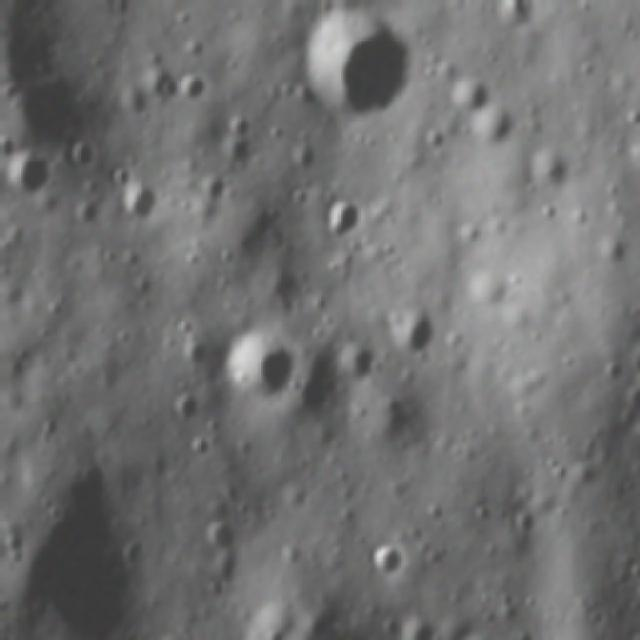crater: (289, 12, 420, 126), (12, 53, 117, 155), (223, 328, 303, 414), (384, 300, 441, 365), (251, 262, 306, 318), (316, 192, 370, 246), (333, 340, 385, 392), (8, 148, 58, 202), (117, 181, 168, 230), (527, 147, 575, 196), (468, 107, 520, 147), (444, 70, 487, 116), (367, 542, 411, 582), (205, 516, 252, 553), (172, 389, 210, 426), (172, 68, 208, 104), (62, 140, 100, 172), (144, 72, 174, 110), (179, 336, 212, 370)
